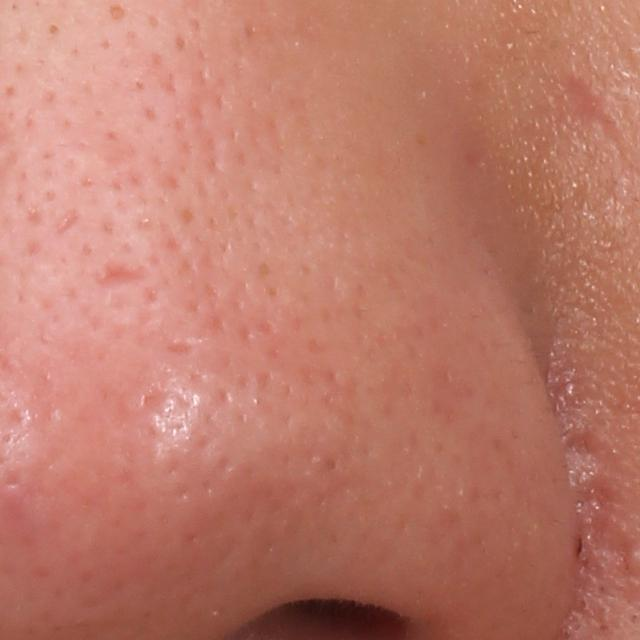atrophic_scar: (559, 70, 627, 151), (568, 428, 617, 477), (91, 257, 148, 287)
comedo: (44, 20, 61, 38)
